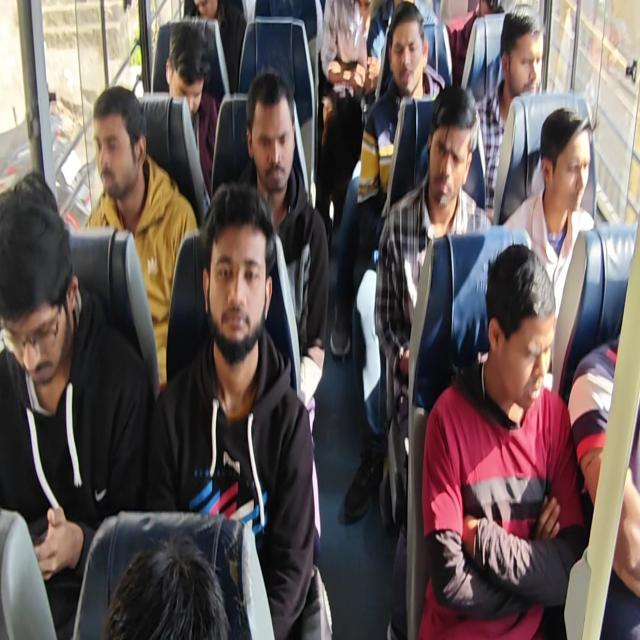person: (1, 1, 637, 638), (147, 181, 326, 638), (0, 172, 154, 638), (417, 242, 587, 638), (373, 84, 493, 638), (235, 70, 330, 565), (330, 1, 446, 357), (84, 85, 198, 389), (502, 107, 596, 394), (568, 334, 640, 638), (357, 2, 446, 210), (474, 6, 545, 213), (104, 533, 231, 639), (316, 0, 372, 239), (164, 18, 219, 200), (183, 0, 246, 102), (447, 0, 505, 89)
